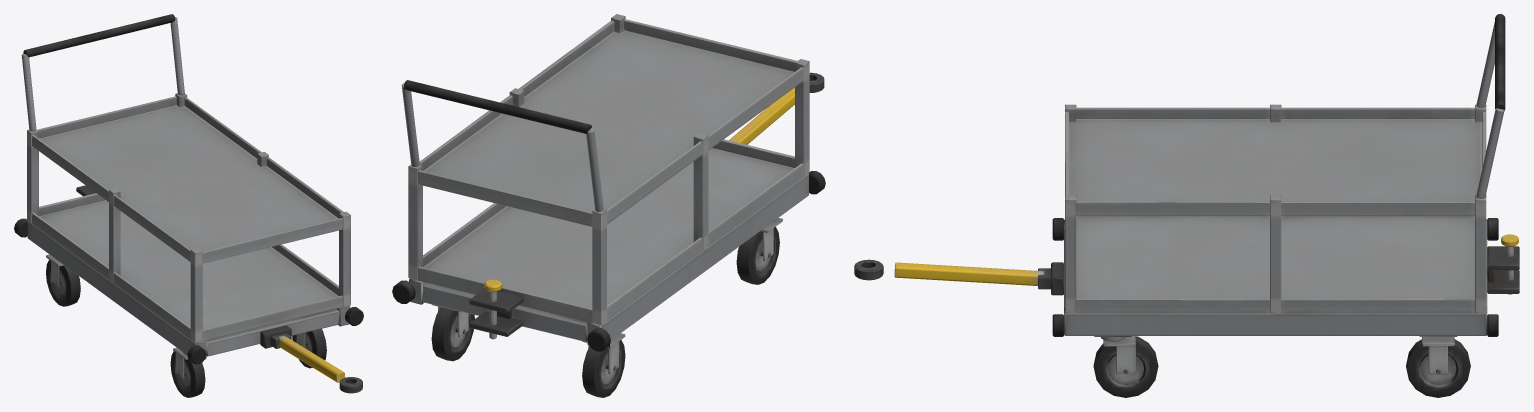
Rendered from ToteTrolley.fbx.
The picture shows the model from 3 angles, left to right: view 1: azimuth 30°, elevation 25°; view 2: azimuth 150°, elevation 25°; view 3: azimuth 270°, elevation 25°; orthographic projection. The views are drawn at different scales.
Parts seen in each view (by area): view 1: ToteTrolley_LOD0, Drawbar_LOD0, Wheel_RR_LOD0, Wheel_FR_LOD0, Wheel_FL_LOD0; view 2: ToteTrolley_LOD0, Wheel_RR_LOD0, Wheel_RL_LOD0, Wheel_FR_LOD0, Drawbar_LOD0, Castor_FR_LOD0; view 3: ToteTrolley_LOD0, Drawbar_LOD0, Wheel_FL_LOD0, Wheel_RL_LOD0, Castor_FL_LOD0.
Boxes of the visible parts, x1,y1,x2,y2 form: ToteTrolley_LOD0: (14, 14, 363, 364); Drawbar_LOD0: (270, 332, 362, 393); Wheel_RR_LOD0: (46, 260, 80, 306); Wheel_FR_LOD0: (170, 351, 205, 397); Wheel_FL_LOD0: (292, 329, 326, 368); ToteTrolley_LOD0: (392, 14, 825, 374); Wheel_RR_LOD0: (582, 340, 625, 397); Wheel_RL_LOD0: (431, 307, 474, 361); Wheel_FR_LOD0: (736, 227, 779, 284); Drawbar_LOD0: (729, 72, 824, 144); Castor_FR_LOD0: (760, 218, 782, 261); ToteTrolley_LOD0: (1051, 14, 1519, 374); Drawbar_LOD0: (854, 259, 1050, 289); Wheel_FL_LOD0: (1093, 336, 1158, 397); Wheel_RL_LOD0: (1406, 339, 1470, 397); Castor_FL_LOD0: (1100, 336, 1135, 374).
Size of what is drawn, in the model's own units: 0.77 by 1.02 by 2.04.
1 material, 1 textured.
